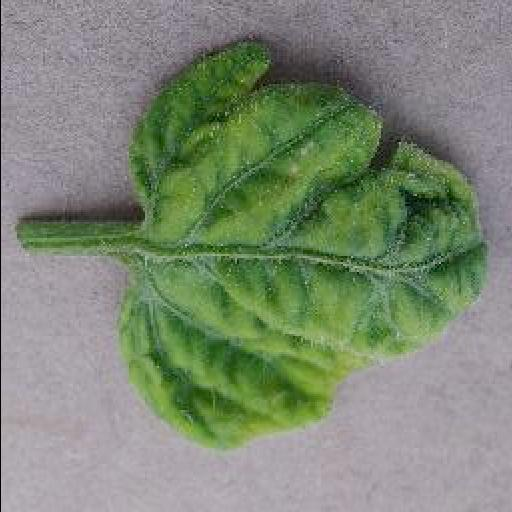disease_tomato: (118, 42, 488, 452)
